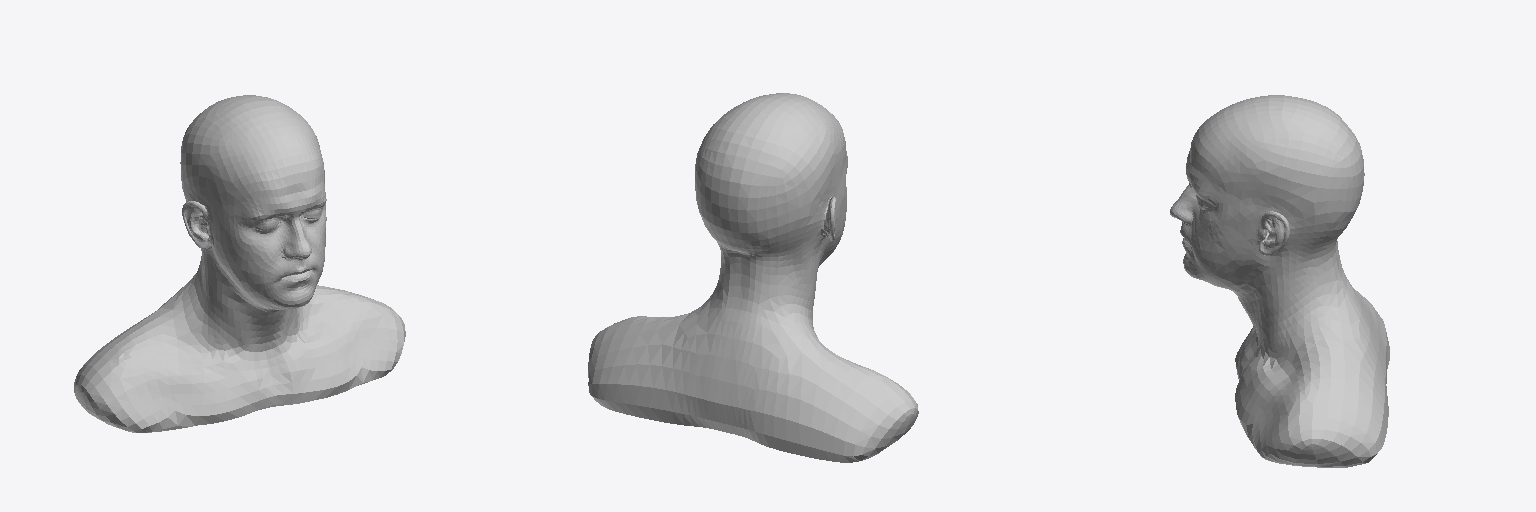
File: HumanHead.obj
3 renders of one model, left to right at view 1: azimuth 30°, elevation 25°; view 2: azimuth 150°, elevation 25°; view 3: azimuth 270°, elevation 25°, orthographic.
Visible parts, largest first — view 1: head; view 2: head; view 3: head.
Part boxes in pixels (bbox=[...]): head: bbox=[74, 95, 405, 432]; head: bbox=[588, 93, 918, 462]; head: bbox=[1170, 95, 1389, 467].
Bounding box in the file's own units: 0.4533 × 0.421 × 0.2746.